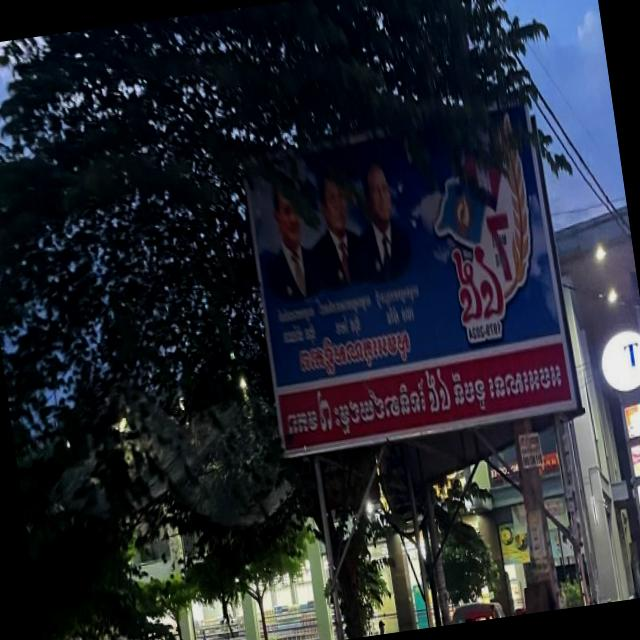1: (284, 347, 563, 449)
893: (464, 316, 507, 348)
Yolov11_80vkh: (297, 321, 415, 382), (450, 238, 505, 328)
